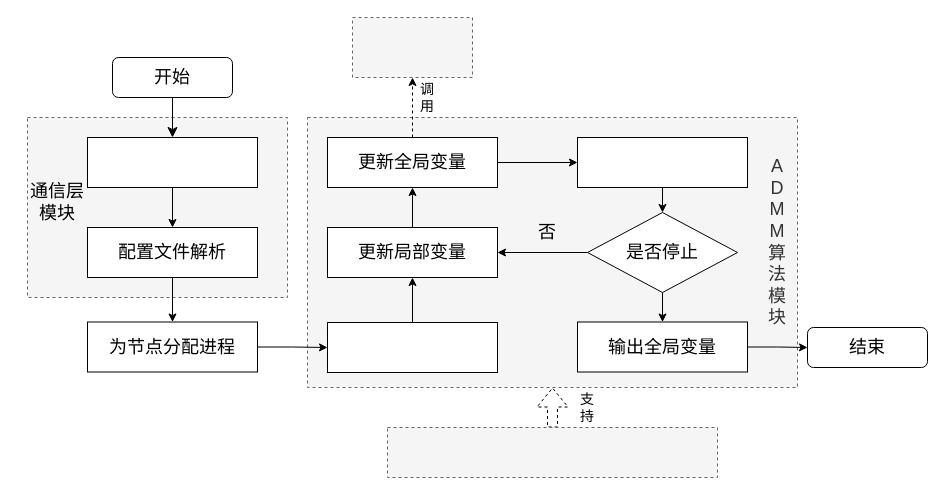
The diagram is 945 pixels wide and 495 high, and some of its shapes have lost their labels. The centre of each missing label's shape, as x and y in pixels:
"ADMM分布式支持层模块" belongs at point 552,452.
"命令行解析" belongs at point 172,162.
"更新对偶变量" belongs at point 662,162.
"特征筛选" belongs at point 412,347.
"通信层模块" belongs at point 412,47.
